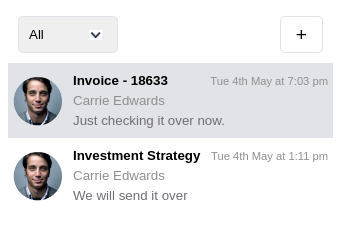
it: App › Changes the active chat when a chat is clicked
Check: the element with test id "active-chat" is shown, box [8,63,333,138]
Click the button with test id "chat-button" that starts with "Investment Strategy" at (170, 176), box [8,138,333,213]
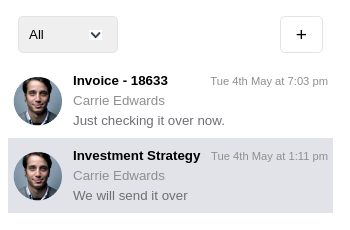
Check: the element with test id "active-chat" is shown, box [8,138,333,213]
